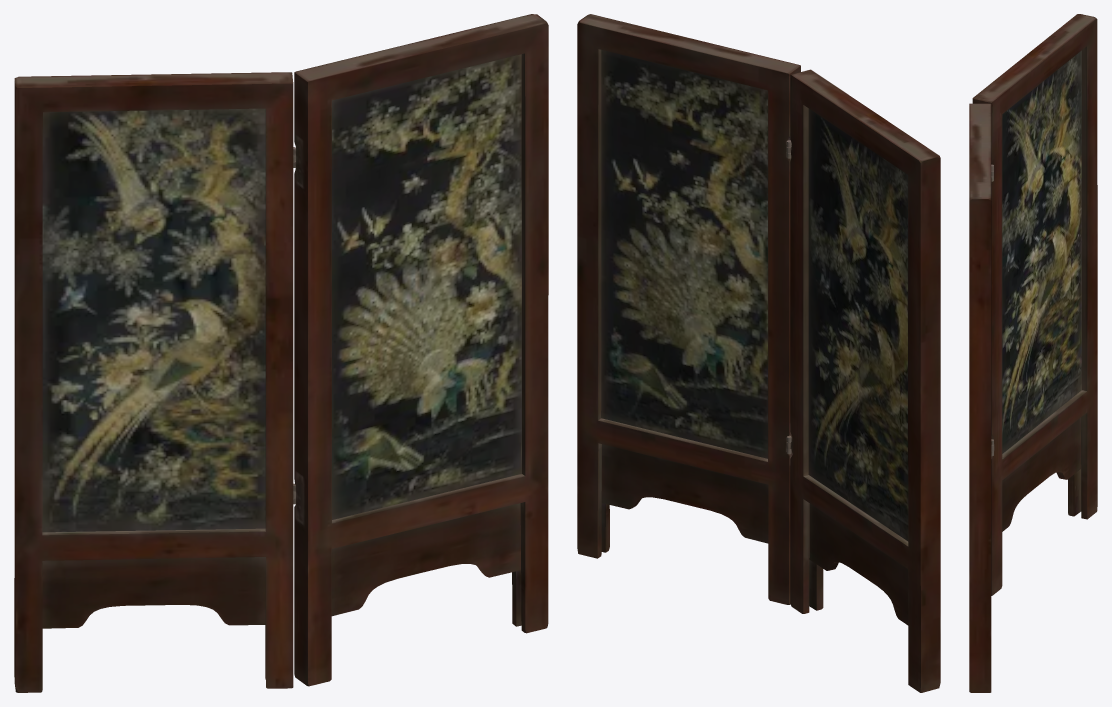
Rendered from chinese_screen_panels.glb.
3 views of the same model, side by side, from view 1: azimuth 30°, elevation 25°; view 2: azimuth 150°, elevation 25°; view 3: azimuth 270°, elevation 25° (orthographic). The views are drawn at different scales.
Visible parts, largest first — view 1: chinese_screen_panels_a; view 2: chinese_screen_panels_a; view 3: chinese_screen_panels_a.
Part boxes in pixels (bbox=[...]): chinese_screen_panels_a: bbox=[14, 14, 548, 692]; chinese_screen_panels_a: bbox=[577, 14, 940, 692]; chinese_screen_panels_a: bbox=[969, 14, 1097, 692].
Bounding box in the file's own units: 1.29 × 1.6 × 0.3769.
Materials: 1 (1 with a texture image).
